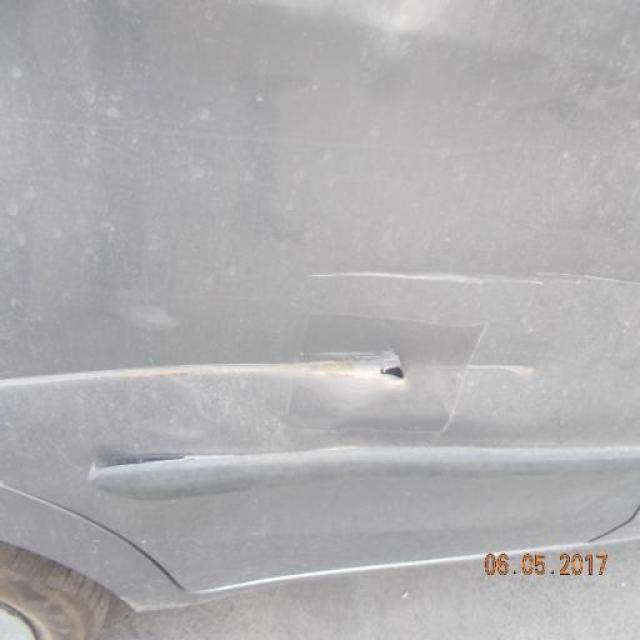scratch: (2, 339, 418, 401), (305, 263, 640, 295), (430, 352, 541, 383)
tear: (382, 362, 411, 387)
